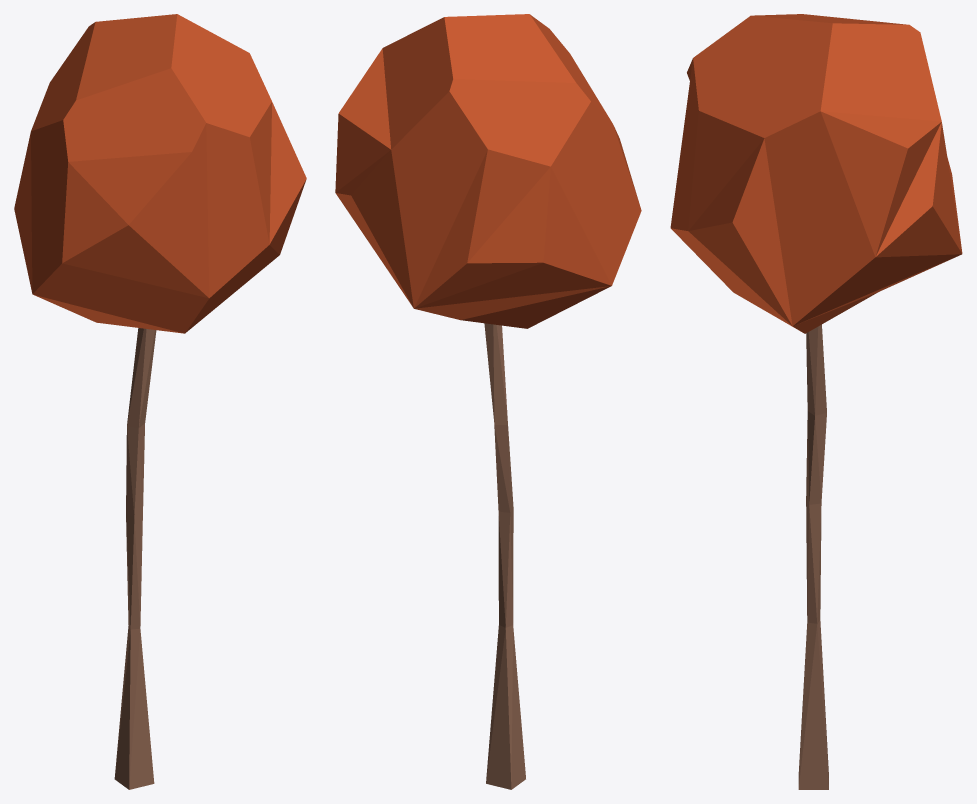
The model's file is world_4_tree_1.dae.
The picture shows the model from 3 angles, left to right: view 1: azimuth 30°, elevation 25°; view 2: azimuth 150°, elevation 25°; view 3: azimuth 270°, elevation 25°; orthographic projection. The views are drawn at different scales.
Visible parts, largest first — view 1: world_4_tree_1_leaves, world_4_tree_1_base; view 2: world_4_tree_1_leaves, world_4_tree_1_base; view 3: world_4_tree_1_leaves, world_4_tree_1_base.
Part boxes in pixels (left/top/right/bottom): world_4_tree_1_leaves: left=14, top=14, right=306, bottom=333; world_4_tree_1_base: left=114, top=328, right=156, bottom=789; world_4_tree_1_leaves: left=335, top=14, right=641, bottom=328; world_4_tree_1_base: left=484, top=323, right=525, bottom=789; world_4_tree_1_leaves: left=670, top=14, right=962, bottom=333; world_4_tree_1_base: left=798, top=324, right=828, bottom=789.
Bounding box in the file's own units: 1.11 × 1.1 × 3.27.
